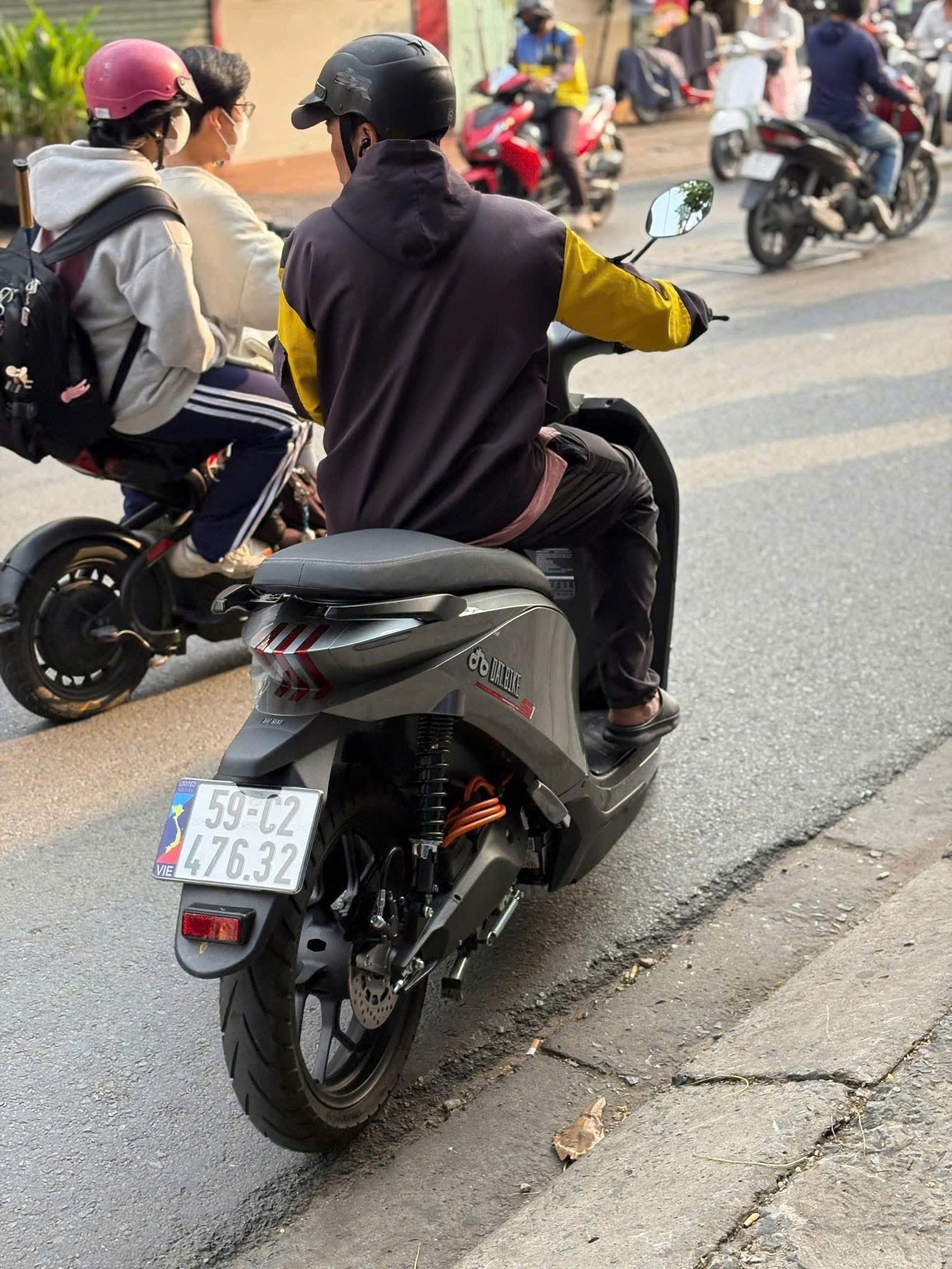Bien-so: (176, 778, 318, 897)
